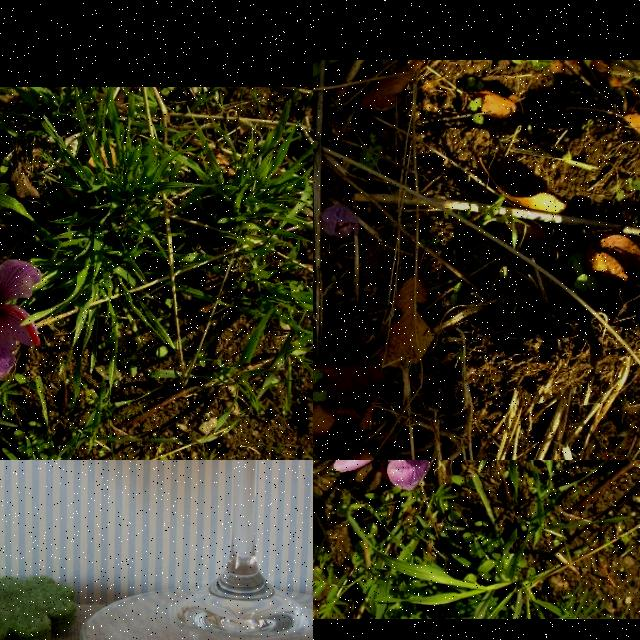flower: (0, 255, 42, 379), (313, 460, 450, 490), (320, 202, 360, 240)
